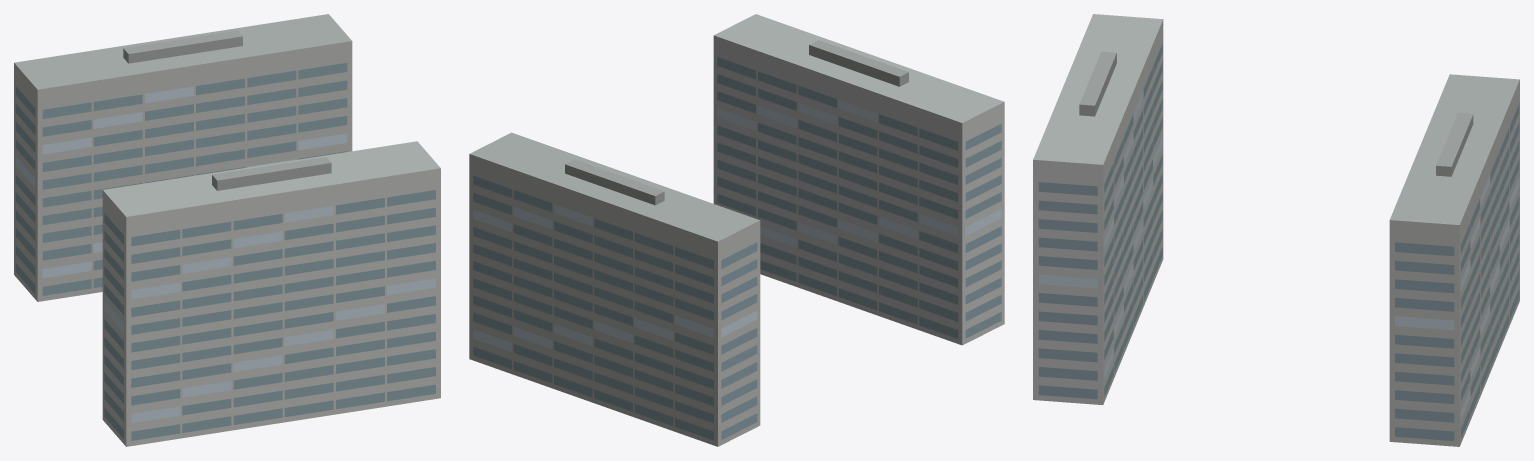
The model's file is apt-a15009602.glb.
3 renders of one model, left to right at view 1: azimuth 30°, elevation 25°; view 2: azimuth 150°, elevation 25°; view 3: azimuth 270°, elevation 25°, orthographic. The views are drawn at different scales.
Visible parts, largest first — view 1: apt-a15009602; view 2: apt-a15009602; view 3: apt-a15009602.
Boxes of the visible parts, x1,y1,x2,y2 form: apt-a15009602: (14,14,440,446); apt-a15009602: (469,14,1004,446); apt-a15009602: (1033,14,1519,446).
Size of the model in its own units: 68.2 by 41.43 by 72.8.
